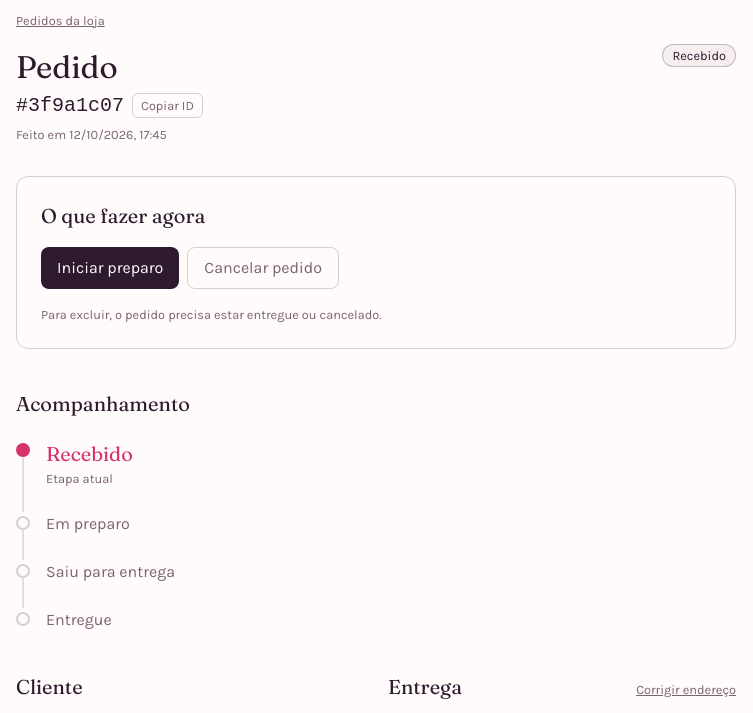
it: Gestao de um pedido › recusa do servidor aparece como mensagem, e o pedido na tela nao muda
The width and height of the screenshot is (753, 713).
Check: the heading "Pedido" is shown, box [16, 47, 118, 86]
Click the button "Iniciar preparo".
click(110, 268)  # box [41, 247, 179, 289]
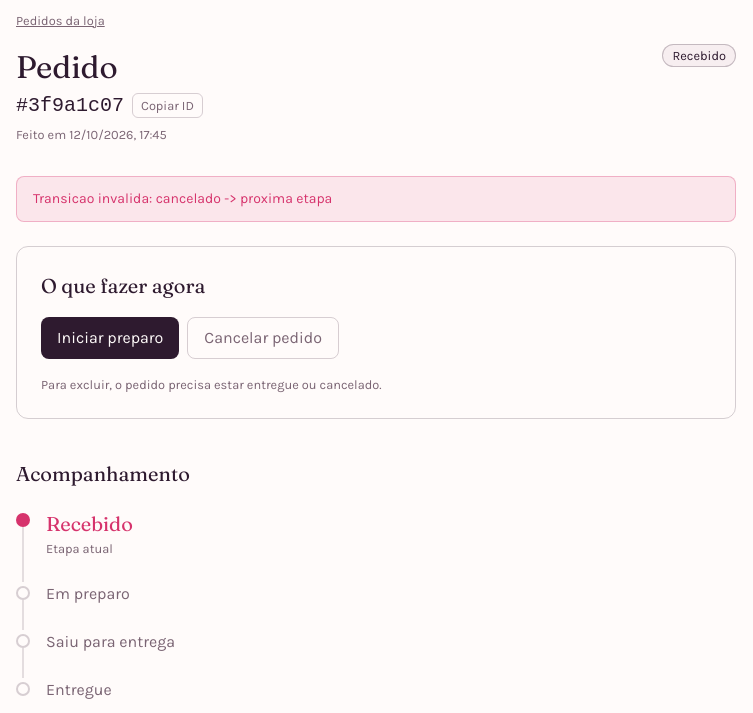
Check: the 1st text "Recebido" is shown, box [662, 44, 736, 67]
Check: the message shows "Transicao invalida", box [33, 190, 332, 207]
